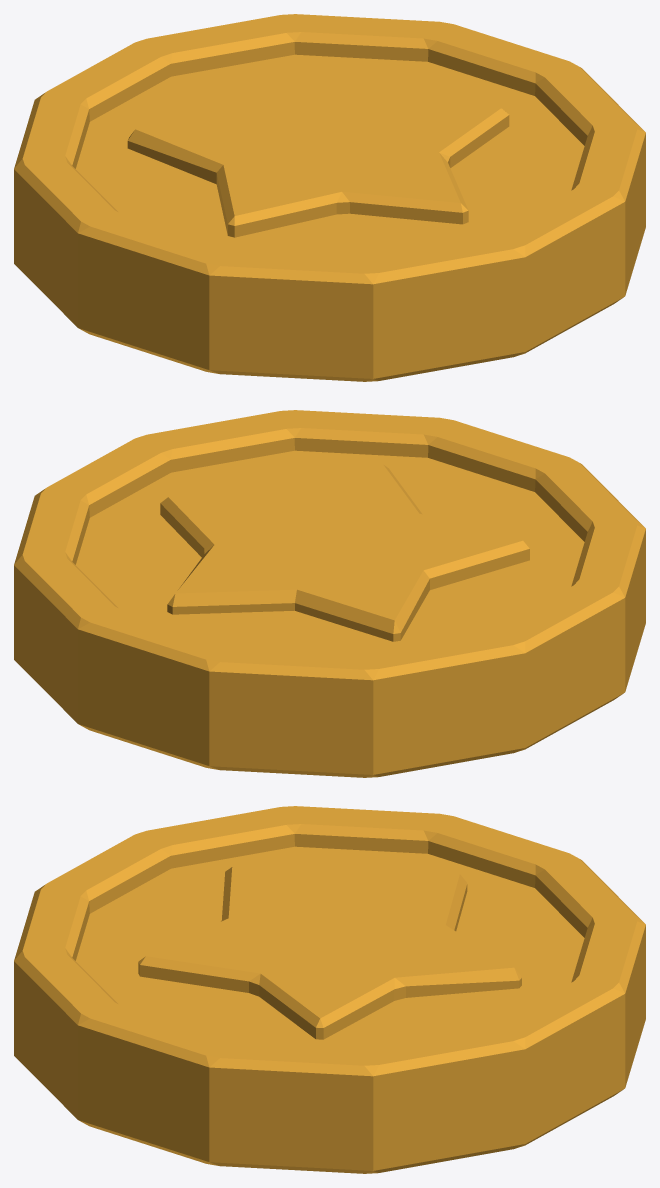
The model's file is Coin.fbx.
3 renders of one model, top to bottom at view 1: azimuth 30°, elevation 25°; view 2: azimuth 150°, elevation 25°; view 3: azimuth 270°, elevation 25°, orthographic.
Parts seen in each view (by area): view 1: Circle.076; view 2: Circle.076; view 3: Circle.076.
Boxes of the visible parts, x1=… form: Circle.076: x1=14, y1=14, x2=645, y2=381; Circle.076: x1=14, y1=410, x2=645, y2=777; Circle.076: x1=14, y1=806, x2=645, y2=1173.
Size of the model in its own units: 188 by 35.38 by 188.
